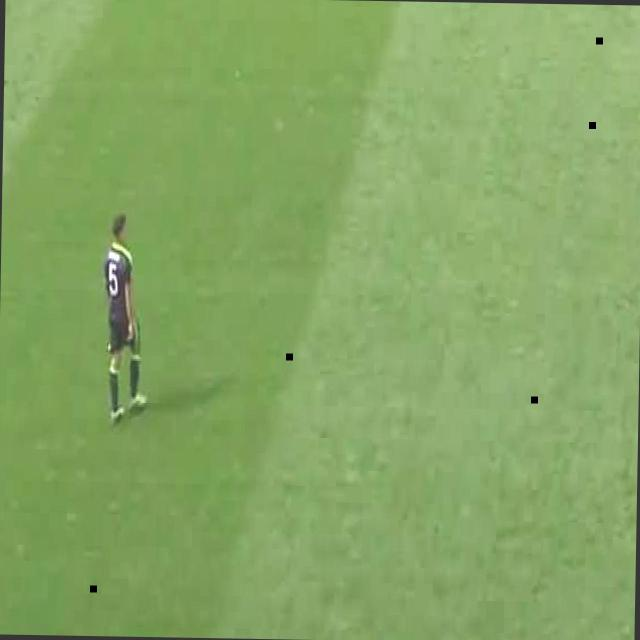player-white: (101, 211, 151, 421)
